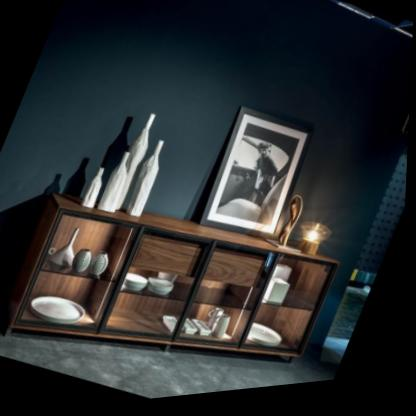Cupboard: (0, 186, 342, 370)
